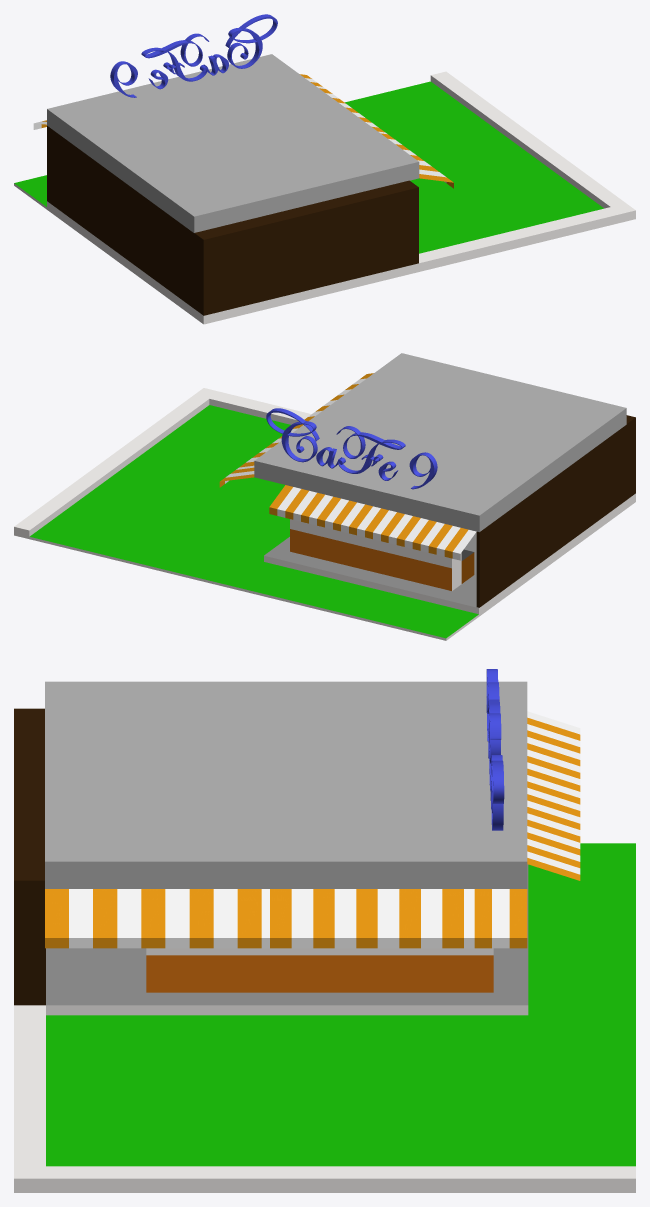
Rendered from Cafe02.fbx.
The picture shows the model from 3 angles, top to bottom: view 1: azimuth 30°, elevation 25°; view 2: azimuth 150°, elevation 25°; view 3: azimuth 270°, elevation 25°; orthographic projection. The views are drawn at different scales.
Parts seen in each view (by area): view 1: Cafe_T, Cafe_L, dsad; view 2: Cafe_T, Cafe_L, dsad; view 3: Cafe_L, Cafe_T, dsad.
Boxes of the visible parts, <box> form: Cafe_T: <box>33,54,453,308</box>; Cafe_L: <box>14,71,635,324</box>; dsad: <box>110,14,277,97</box>; Cafe_T: <box>219,353,626,607</box>; Cafe_L: <box>14,388,635,640</box>; dsad: <box>266,408,437,489</box>; Cafe_L: <box>14,708,635,1192</box>; Cafe_T: <box>45,681,580,948</box>; dsad: <box>486,669,504,830</box>.
Size of the model in its own units: 16.24 by 5.37 by 12.35.
2 materials, 1 textured.
